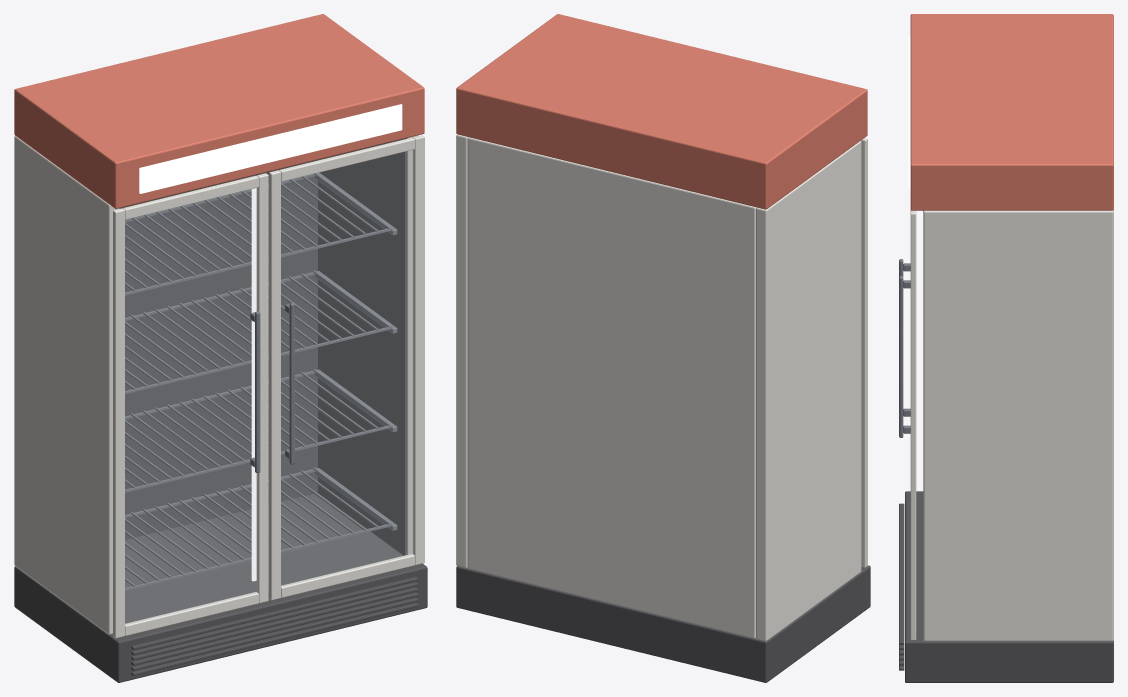
File: fridge_glass_2door.glb
3 views of the same model, side by side, from view 1: azimuth 30°, elevation 25°; view 2: azimuth 150°, elevation 25°; view 3: azimuth 270°, elevation 25° (orthographic).
Parts seen in each view (by area): view 1: fridge_glass_2door.001, door_left, door_right; view 2: fridge_glass_2door.001, door_left; view 3: fridge_glass_2door.001, door_right.
Part boxes in pixels (<box>): fridge_glass_2door.001: <box>14,14,427,682</box>; door_left: <box>113,173,268,638</box>; door_right: <box>269,135,424,600</box>; fridge_glass_2door.001: <box>456,14,870,682</box>; door_left: <box>861,138,867,567</box>; fridge_glass_2door.001: <box>899,14,1113,682</box>; door_right: <box>899,210,916,640</box>.
Size of what is drawn, in the model's own units: 1.25 by 2 by 0.75.
6 materials, 1 textured.
